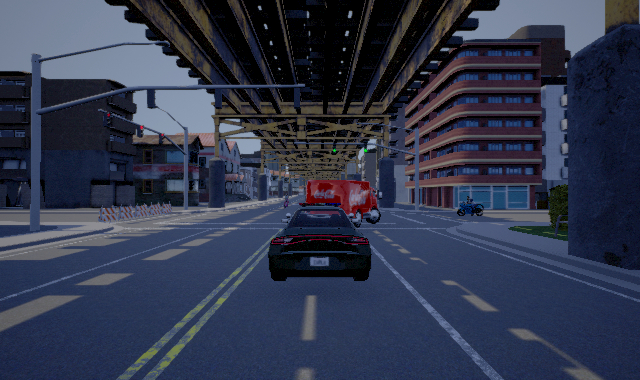motobike: (455, 195, 485, 217)
traffic_light: (103, 112, 112, 127), (137, 125, 144, 138), (159, 133, 165, 144), (364, 143, 367, 153), (333, 143, 336, 153)
vehicle: (268, 209, 371, 281), (306, 177, 383, 228)
